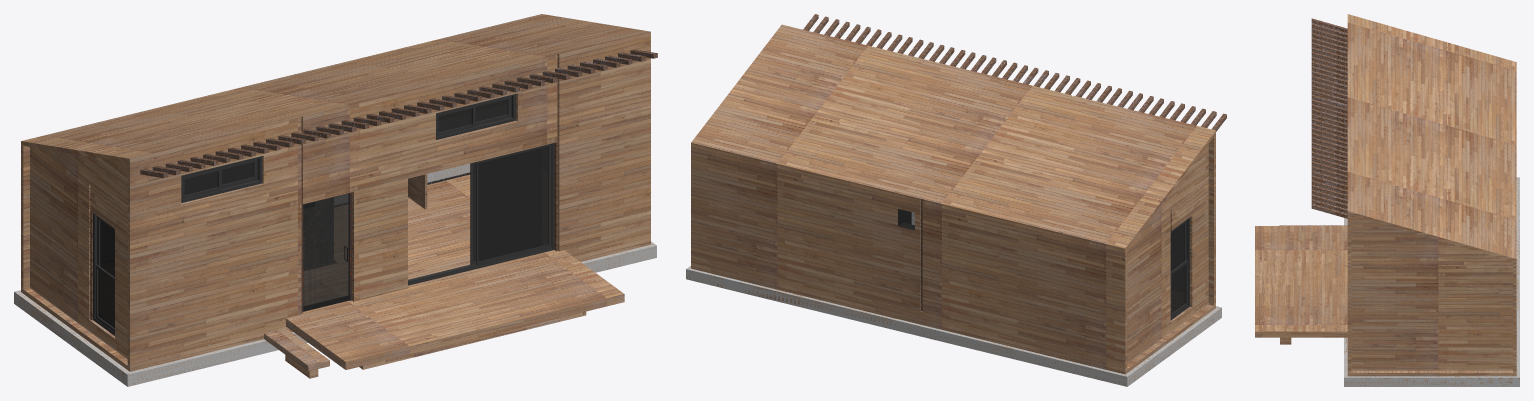
3 views of the same model, side by side, from view 1: azimuth 30°, elevation 25°; view 2: azimuth 150°, elevation 25°; view 3: azimuth 270°, elevation 25° (orthographic). The views are drawn at different scales.
Parts seen in each view (by area): view 1: SketchUp (×10), Glass (×2), group_59, C_Glass (×3), C_Base, Glass_Door; view 2: SketchUp (×3), C_Glass, Glass; view 3: SketchUp (×3).
Boxes of the visible parts, box(x1,y1,x2,y2) form: SketchUp (×10): box(14, 14, 656, 386); Glass (×2): box(100, 146, 548, 277); group_59: box(303, 193, 349, 306); C_Glass (×3): box(98, 108, 471, 328); C_Base: box(408, 247, 551, 285); Glass_Door: box(302, 192, 351, 312); SketchUp (×3): box(686, 24, 1221, 386); C_Glass: box(1171, 265, 1185, 313); Glass: box(1170, 224, 1183, 271); SketchUp (×3): box(1255, 14, 1519, 386).
Bounding box in the file's own units: 413 × 231 × 168.
